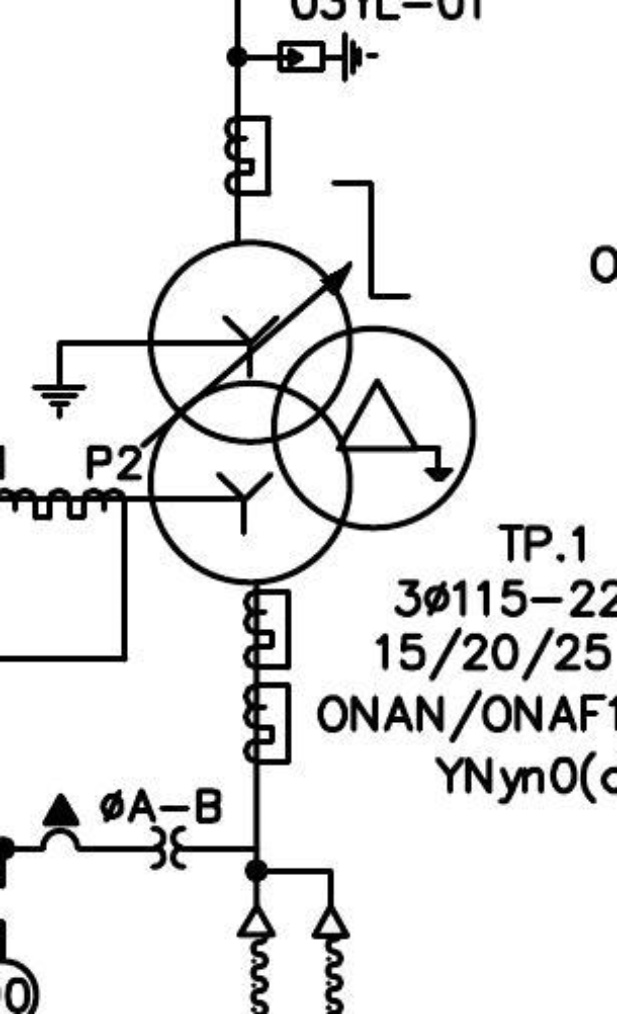11522_tx_ynyn0d1: (146, 237, 479, 588)
115_la: (275, 30, 380, 84)
terminator_double: (235, 866, 351, 940)
